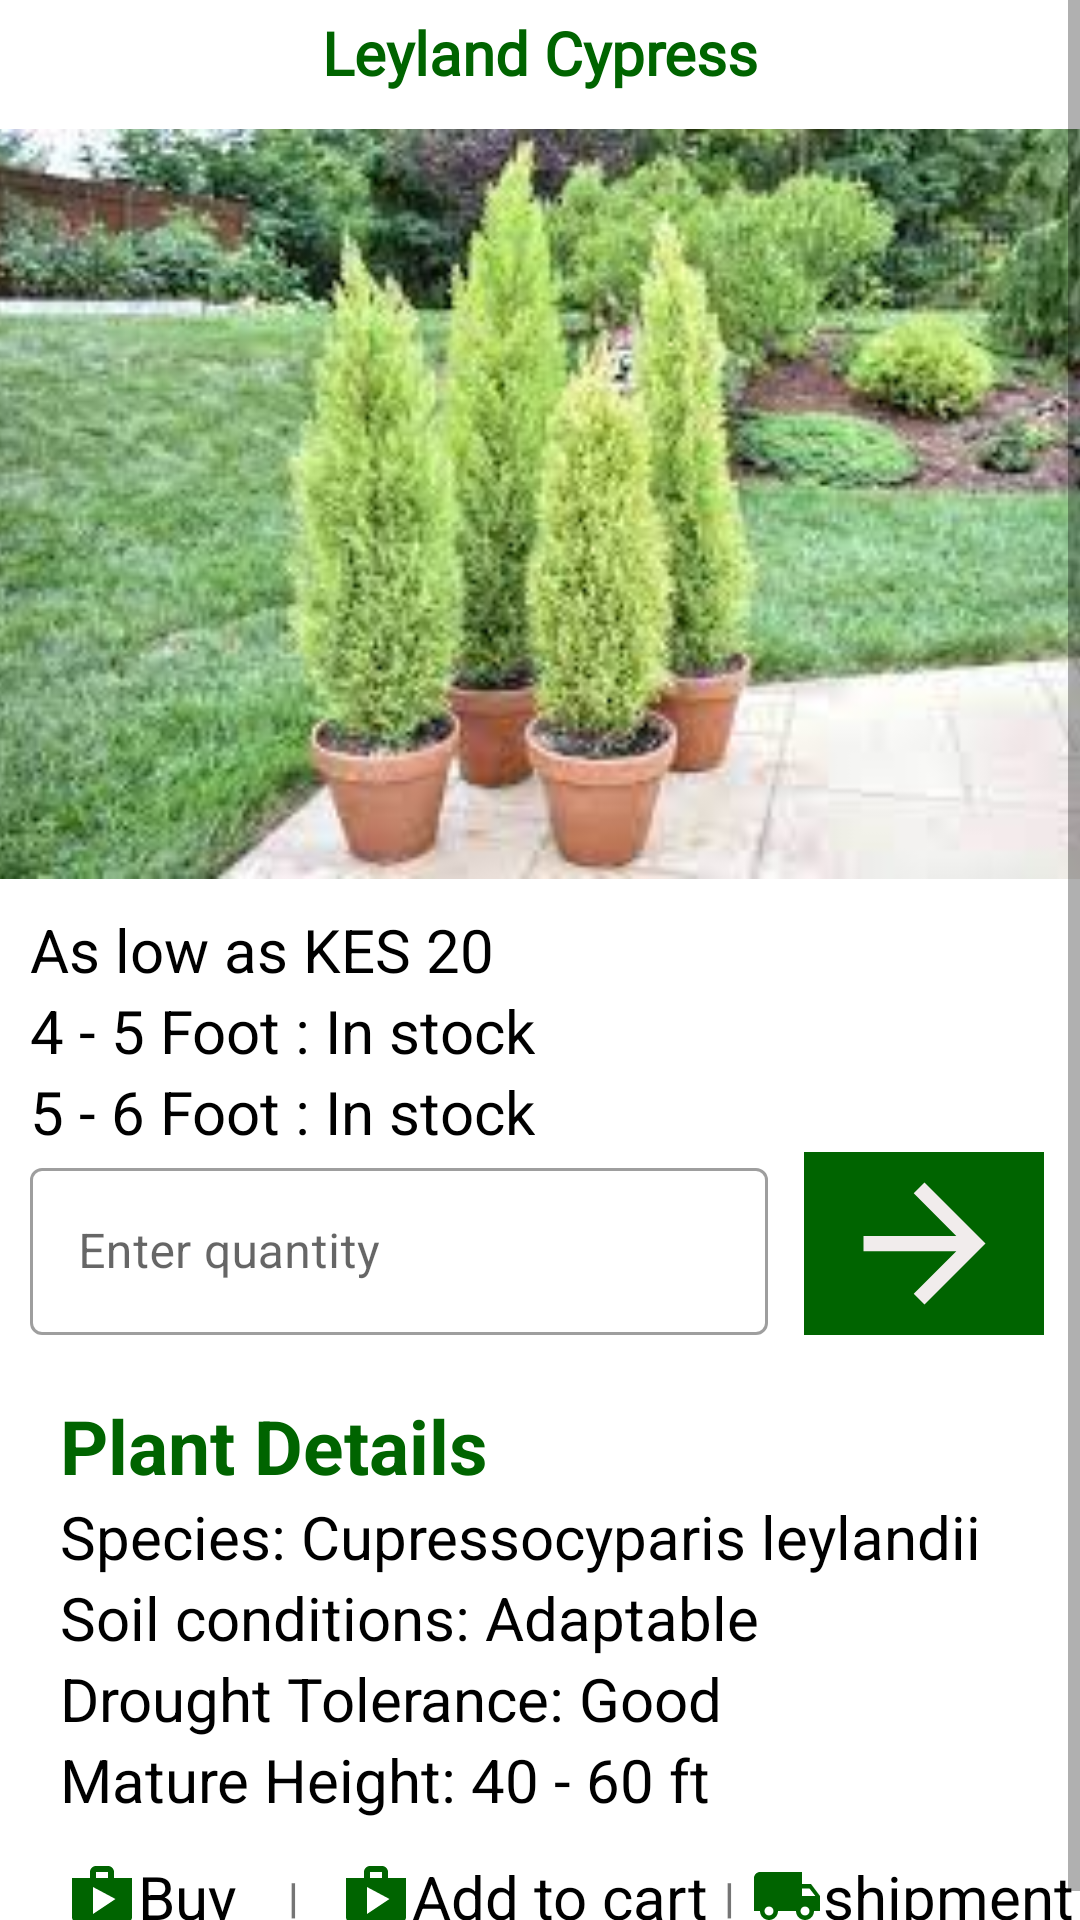

Icons on this 1080 x 1920 Android screen, each with the point to tap as (x=x, y=y):
arrow: (x=924, y=1243)
